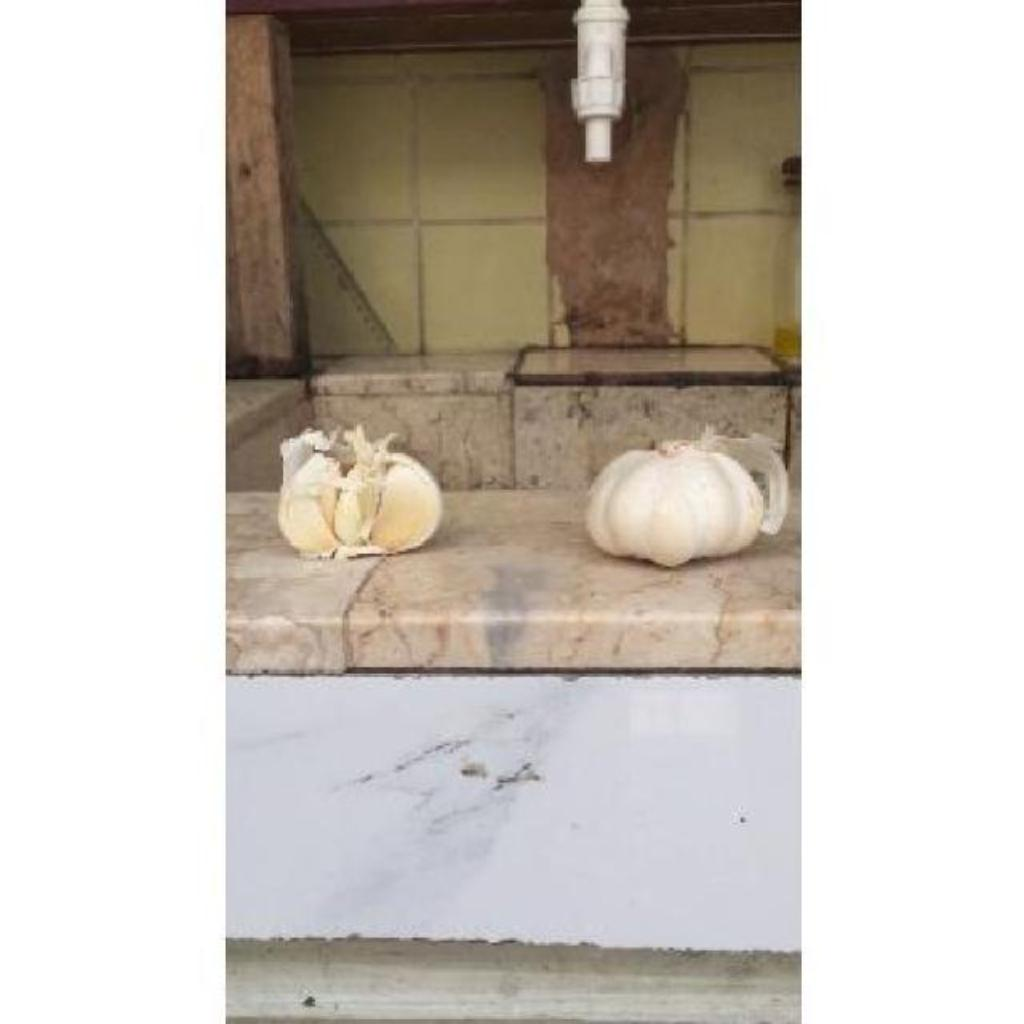garlic: (586, 432, 788, 565), (278, 426, 440, 557)
